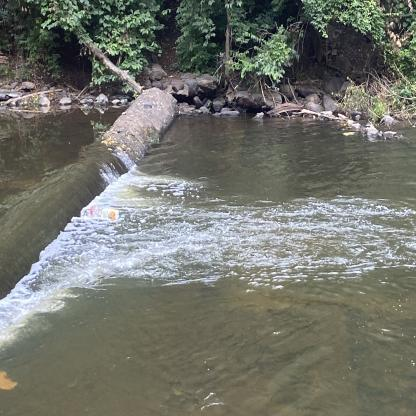trash: (100, 204, 122, 223), (84, 202, 104, 220)
